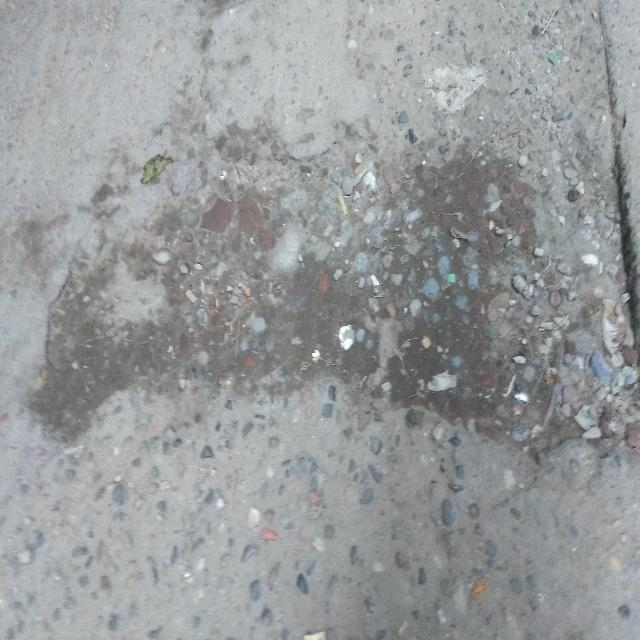Surface Erosion: (16, 83, 640, 598)
